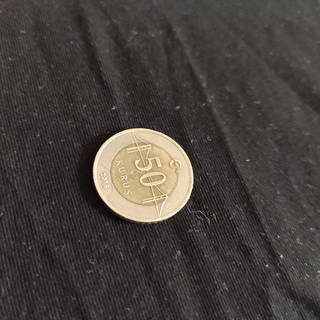50KURUS: (90, 126, 194, 225)
